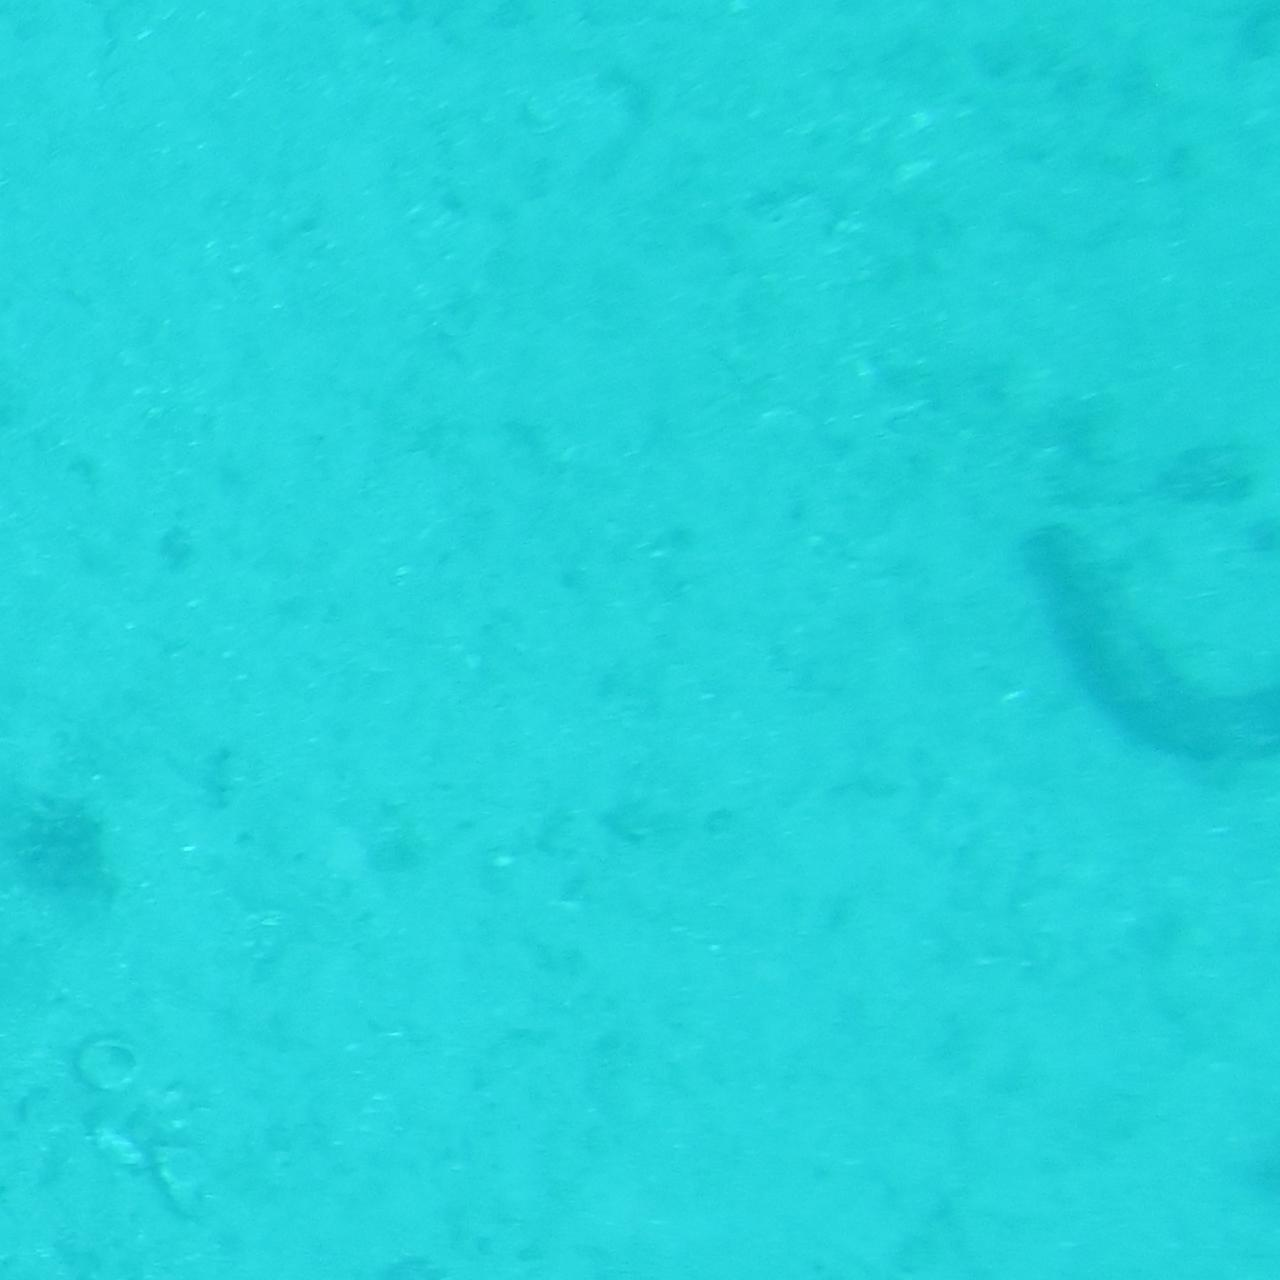Holothuria tubulosa: (1034, 505, 1279, 775)
